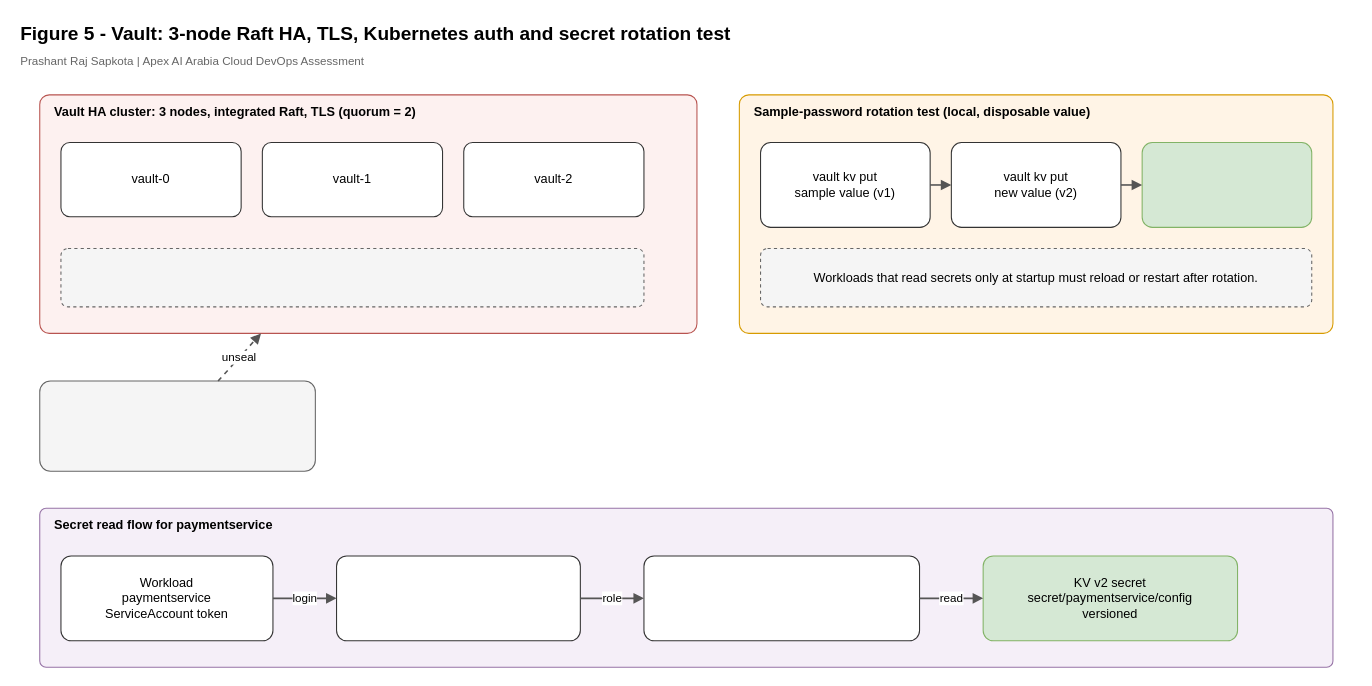
Some shapes in this 1372 by 686 pixel diagram are drawn without their labels. The shapes that lost their labels are listed below. From the top down, each one's centre as x and y in pixels, then its label:
At (x=1226, y=184): "vault kv get returns latest version".
At (x=352, y=277): "Raft replicates storage and elects a leader. Audit device: file.".
At (x=177, y=425): "Operator unseal keys entered interactively, nothing stored".
At (x=457, y=598): "Vault Kubernetes auth role bound to ServiceAccount + namespace".
At (x=781, y=598): "Policy check secret/data/paymentservice/config read only".
